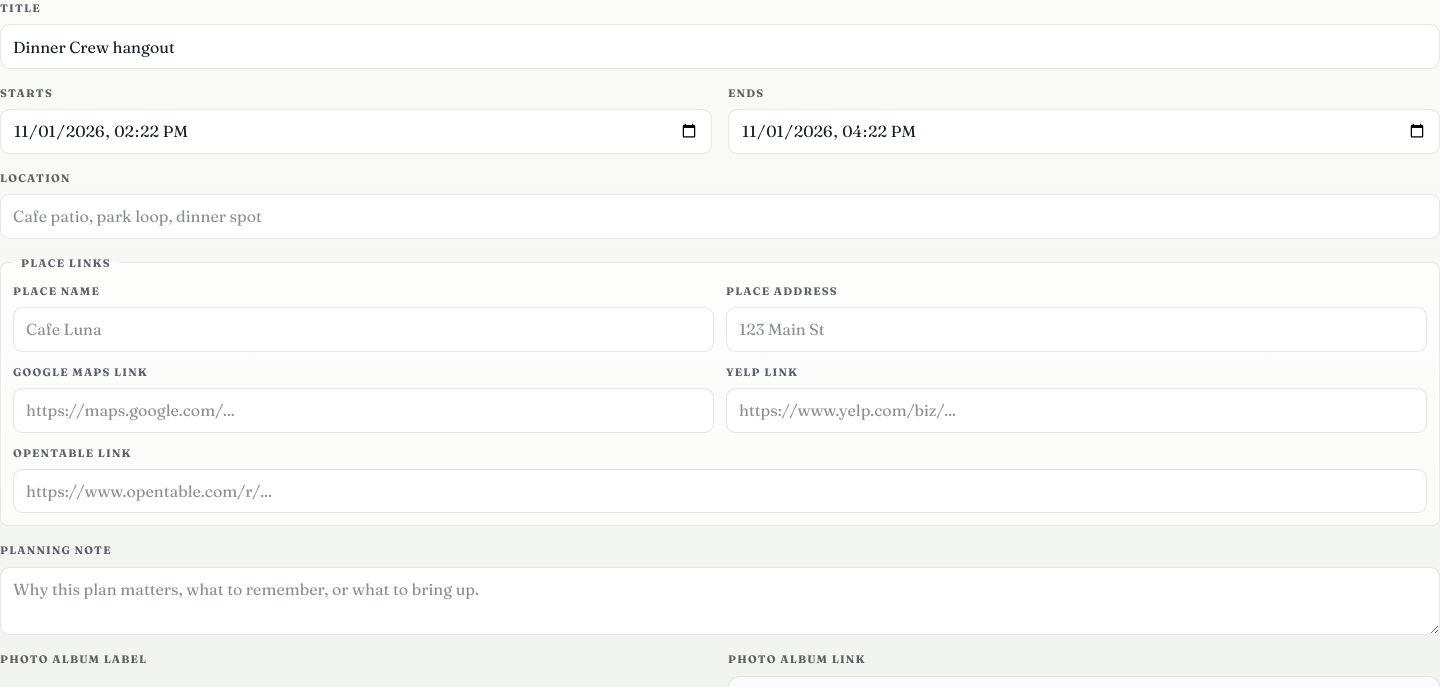
Scenario: HangoutPlanForm › uses address suggestions for the place address field
Type "123 Main" into the field labelled "Place address" at (1076, 329), box [726, 307, 1427, 352]
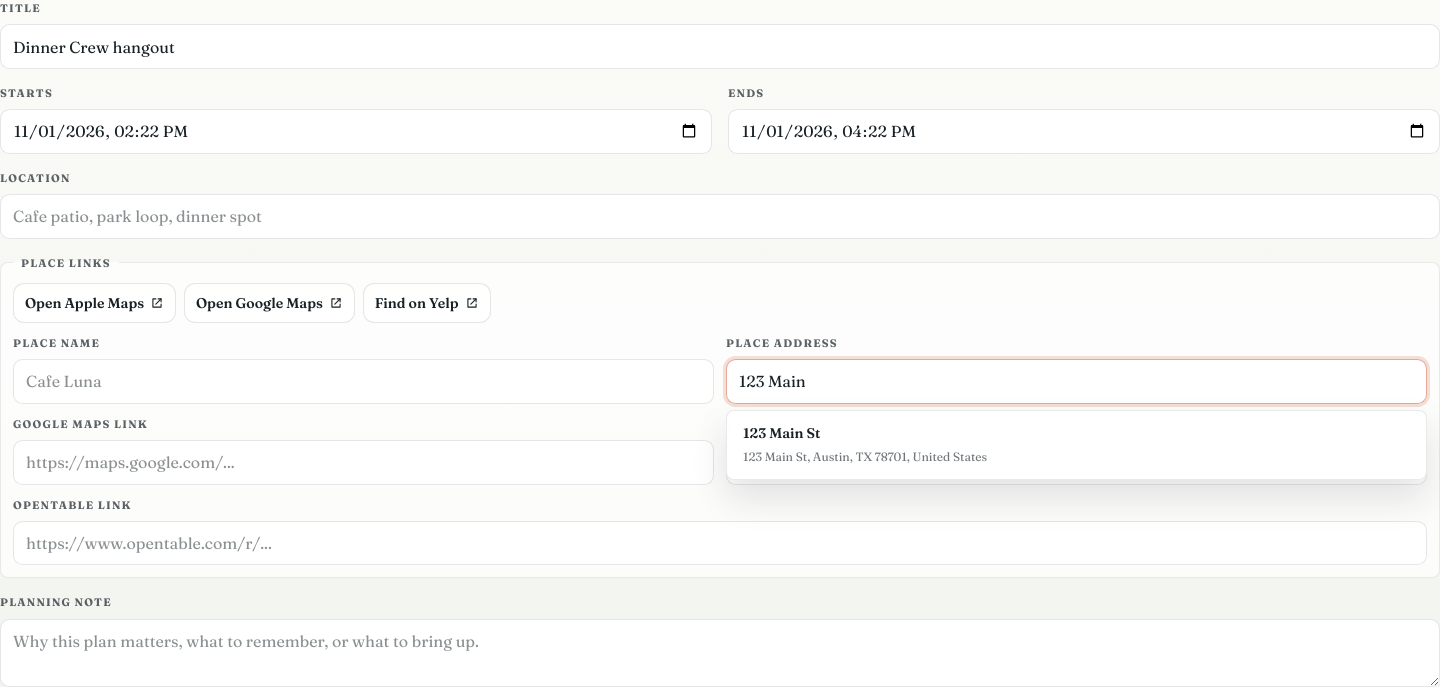
Click the button "123 Main St 123 Main St, Austin, TX 78701, United States" at (782, 433), box [727, 411, 1426, 479]
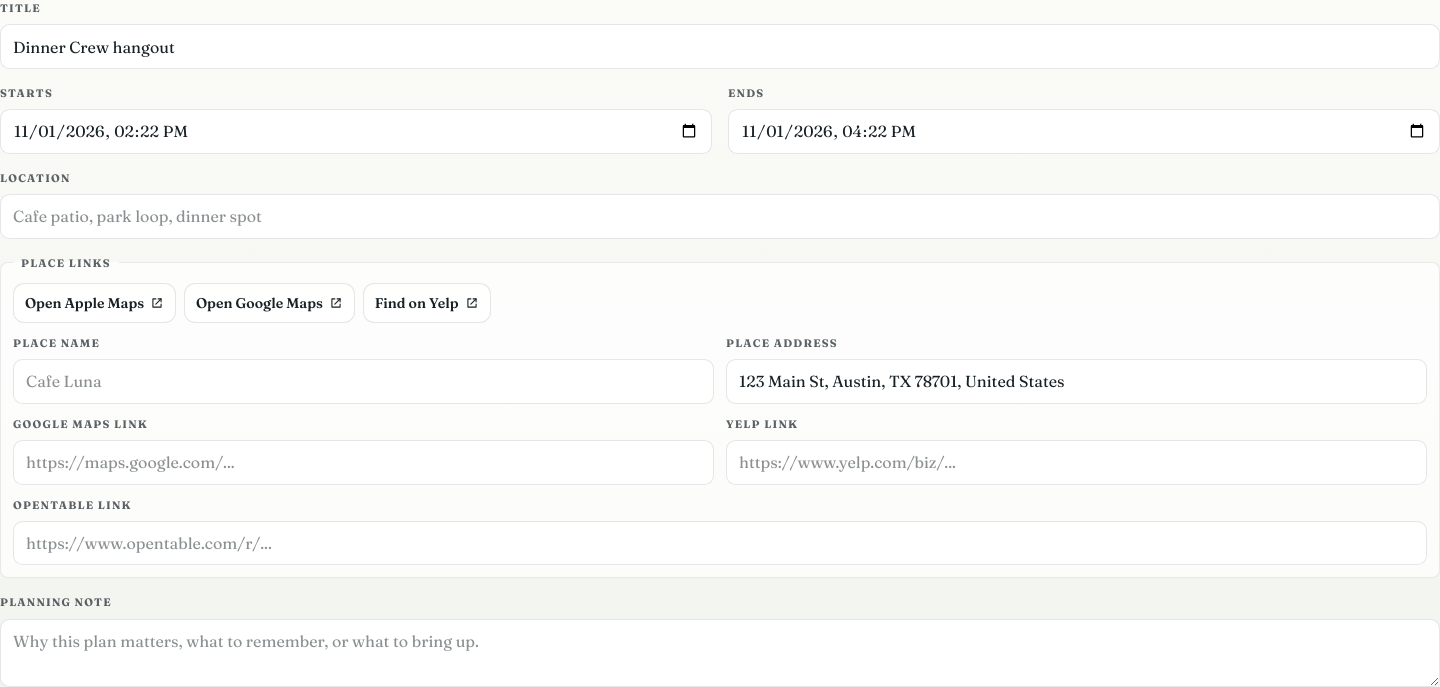
expect the field labelled "Place address" holds "123 Main St, Austin, TX 78701, United States": met, box [726, 359, 1427, 404]
